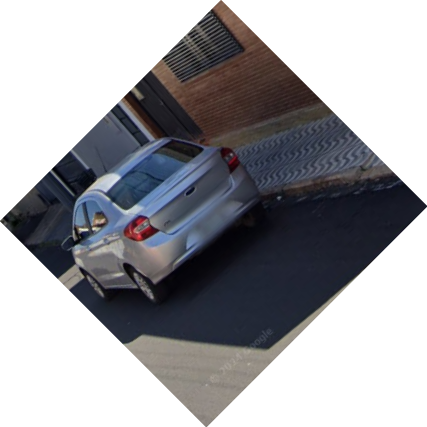car: (59, 135, 269, 312)
